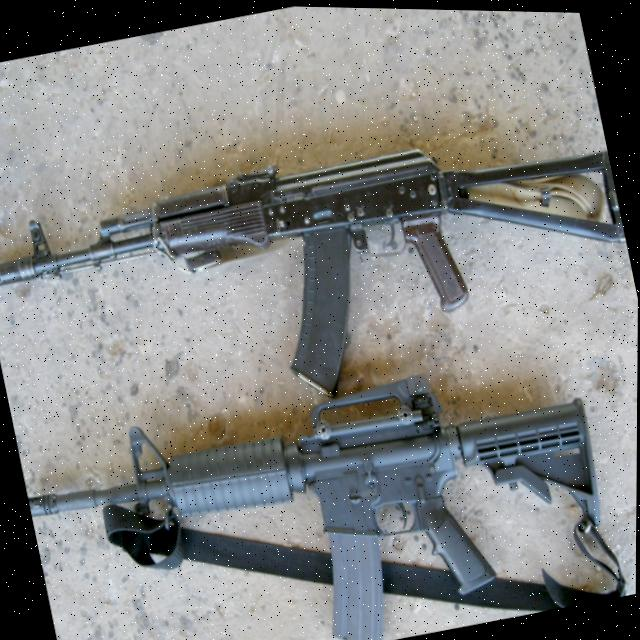firearm: (0, 84, 640, 468), (16, 328, 625, 640)
